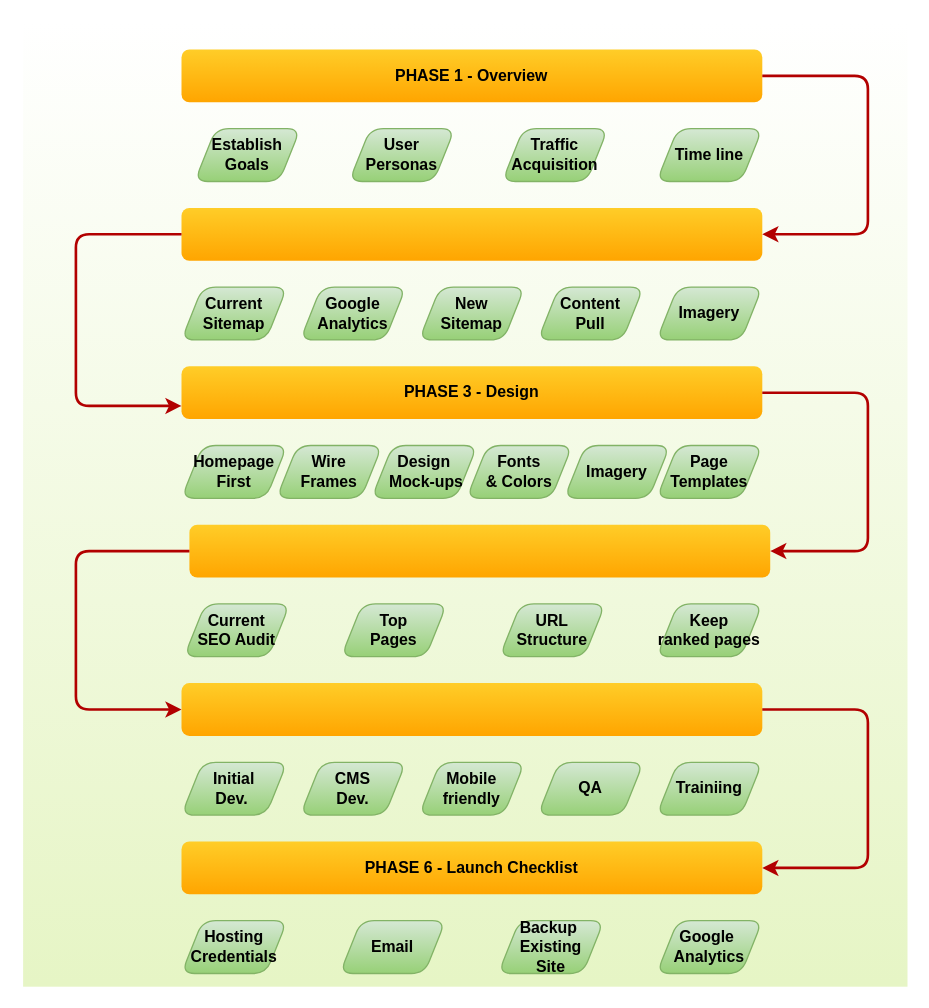
Image size: 929x1008. Some labels were removed from this diagram. The box of each missing label's shape, as (x1, y1, x2, y2) in pixels:
PHASE 2 - Content: (181, 207, 762, 260)
PHASE 4 - SEO: (189, 524, 770, 577)
PHASE 5 - Development: (181, 682, 762, 735)
